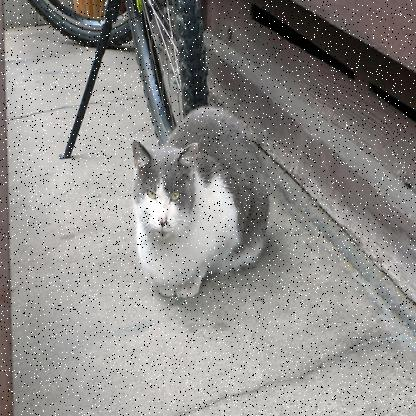cat: (124, 99, 278, 325)
